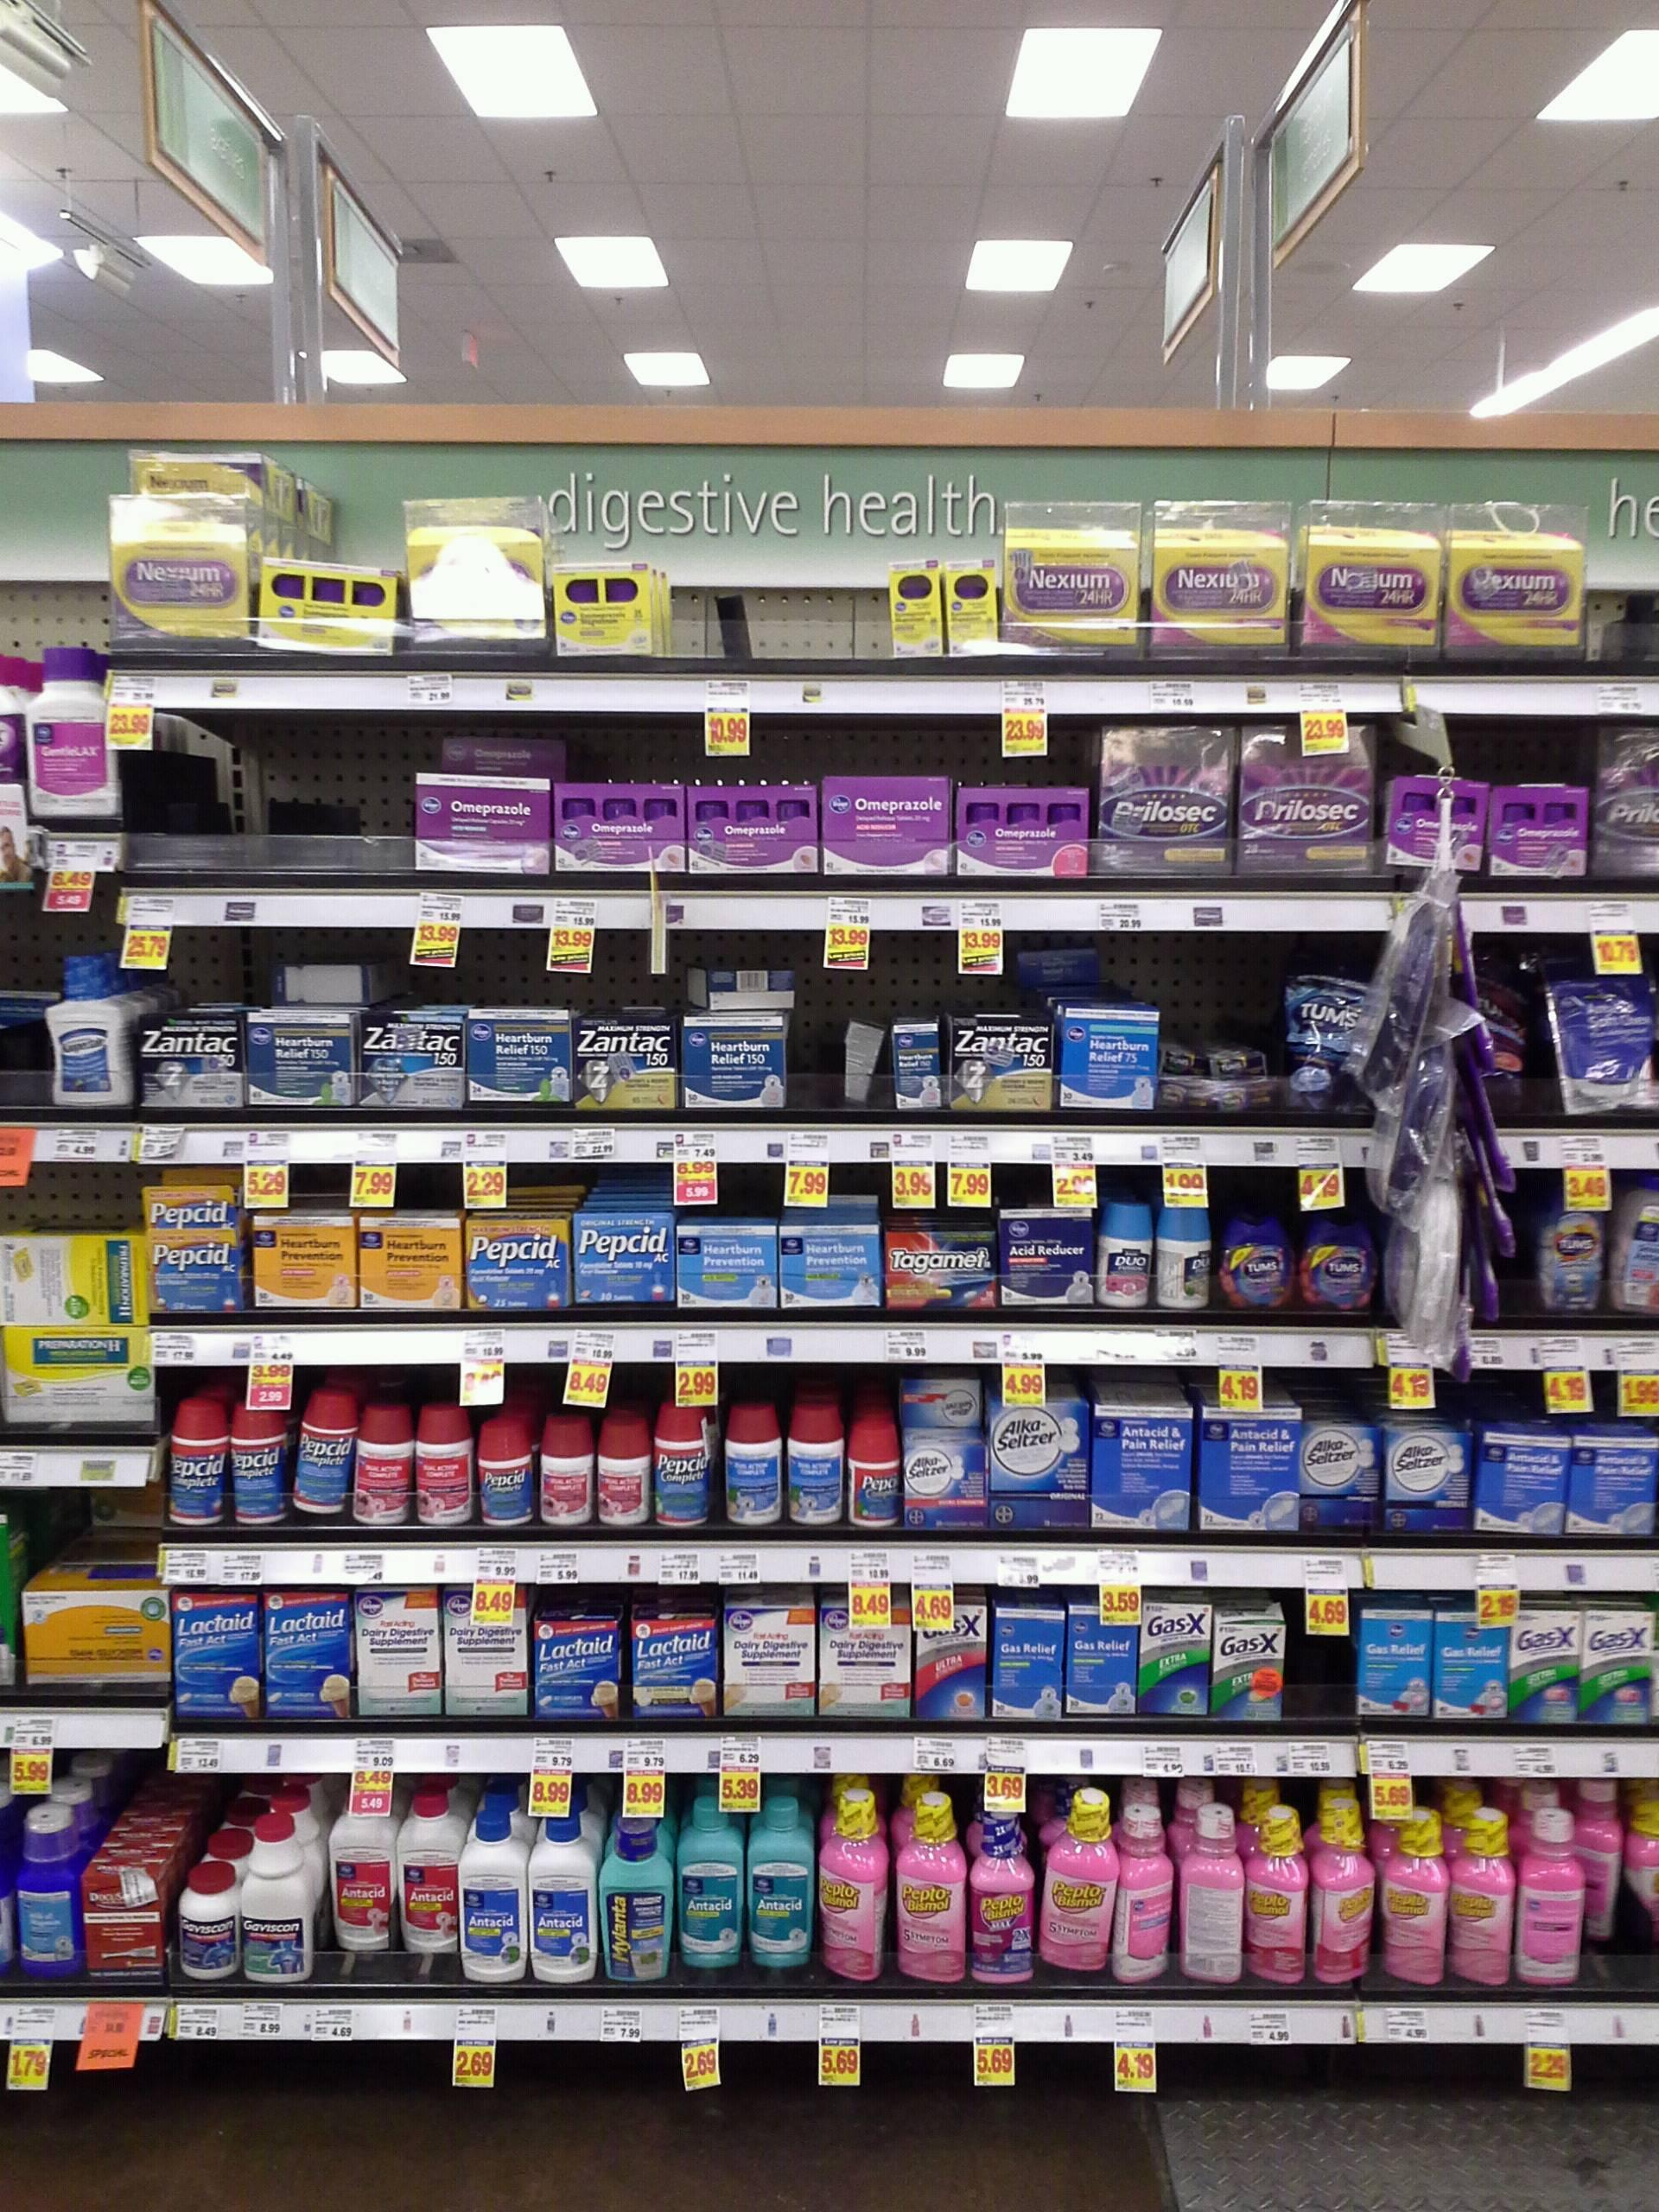misalignment: (1178, 1810, 1244, 1980), (1166, 1026, 1276, 1109), (1572, 1782, 1621, 1942), (260, 954, 411, 1005), (690, 967, 807, 1019), (446, 733, 577, 777), (849, 1015, 880, 1106)
